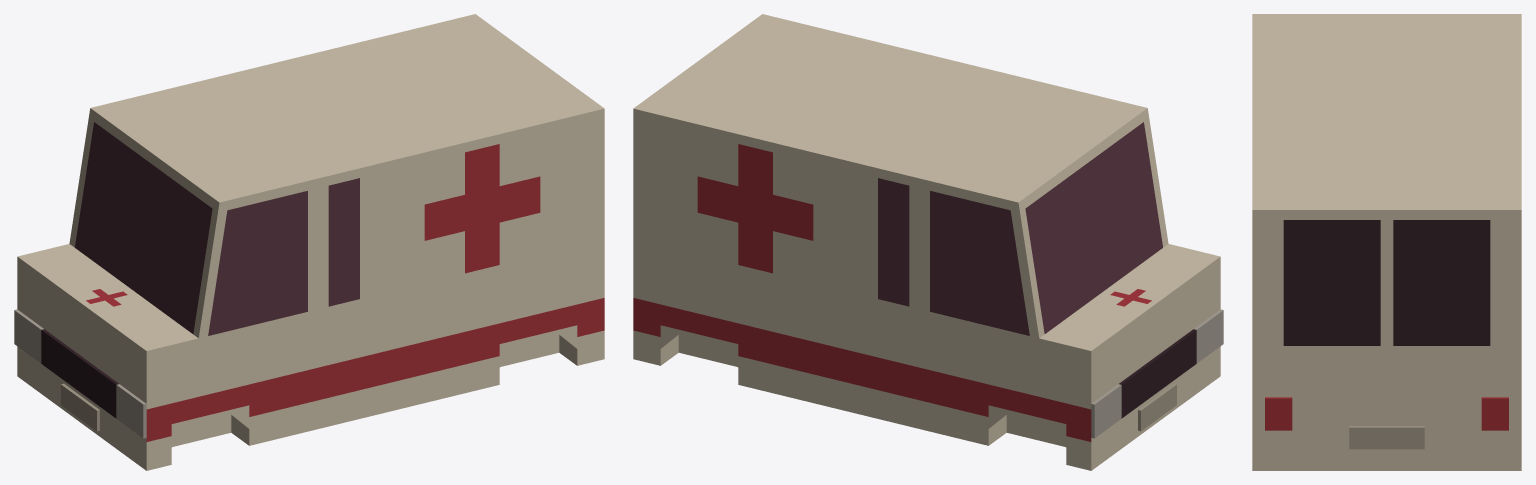
File: Van_Ambulance.fbx
The picture shows the model from 3 angles, left to right: view 1: azimuth 30°, elevation 25°; view 2: azimuth 150°, elevation 25°; view 3: azimuth 270°, elevation 25°; orthographic projection. The views are drawn at different scales.
Parts seen in each view (by area): view 1: Van_Ambulance, Van_AmbulanceLights; view 2: Van_Ambulance, Van_AmbulanceLights; view 3: Van_Ambulance, Van_AmbulanceLights.
Part boxes in pixels (x1,y1,x2,y2): Van_Ambulance: (17,14,604,470); Van_AmbulanceLights: (14,309,146,438); Van_Ambulance: (633,14,1220,470); Van_AmbulanceLights: (1091,309,1223,438); Van_Ambulance: (1252,14,1521,470); Van_AmbulanceLights: (1265,397,1508,430).
Size of the model in its own units: 4.46 by 2.3 by 2.15.
